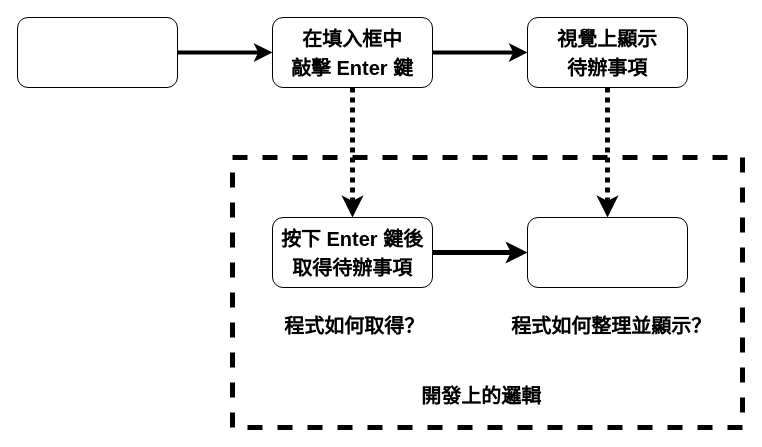
Some shapes in this 762 by 447 pixel diagram are drawn without their labels. The centre of each missing label's shape, as x and y in pixels:
"填入待辦事項" belongs at pixel 97 52.
"將整理好的資料 依序顯示於網頁" belongs at pixel 607 252.
